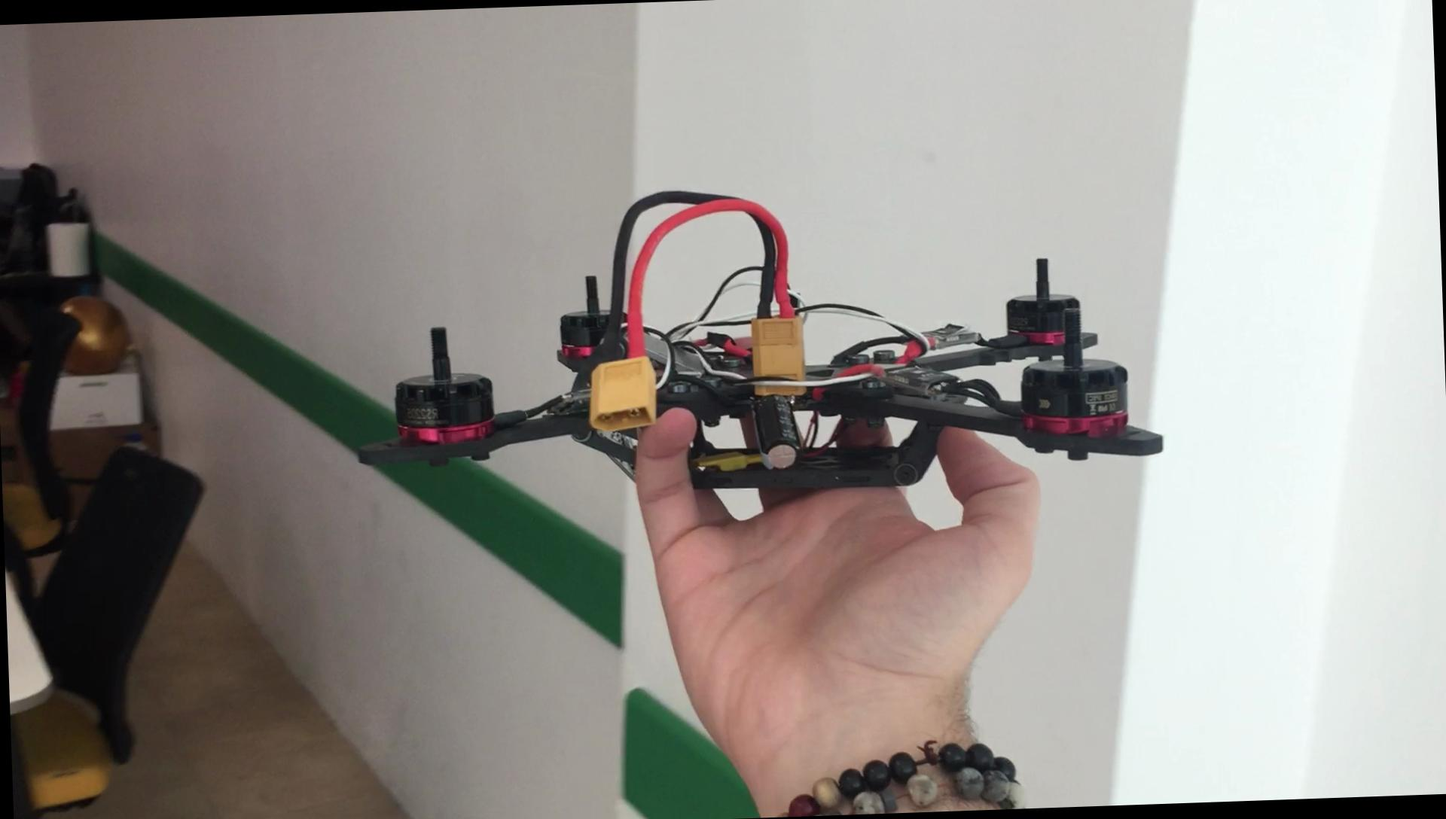drone: (319, 199, 1198, 539)
